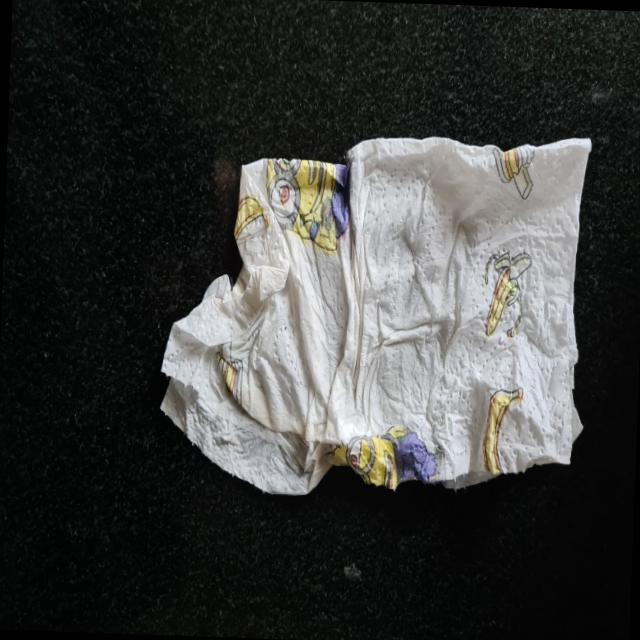organic waste: (154, 110, 592, 517)
